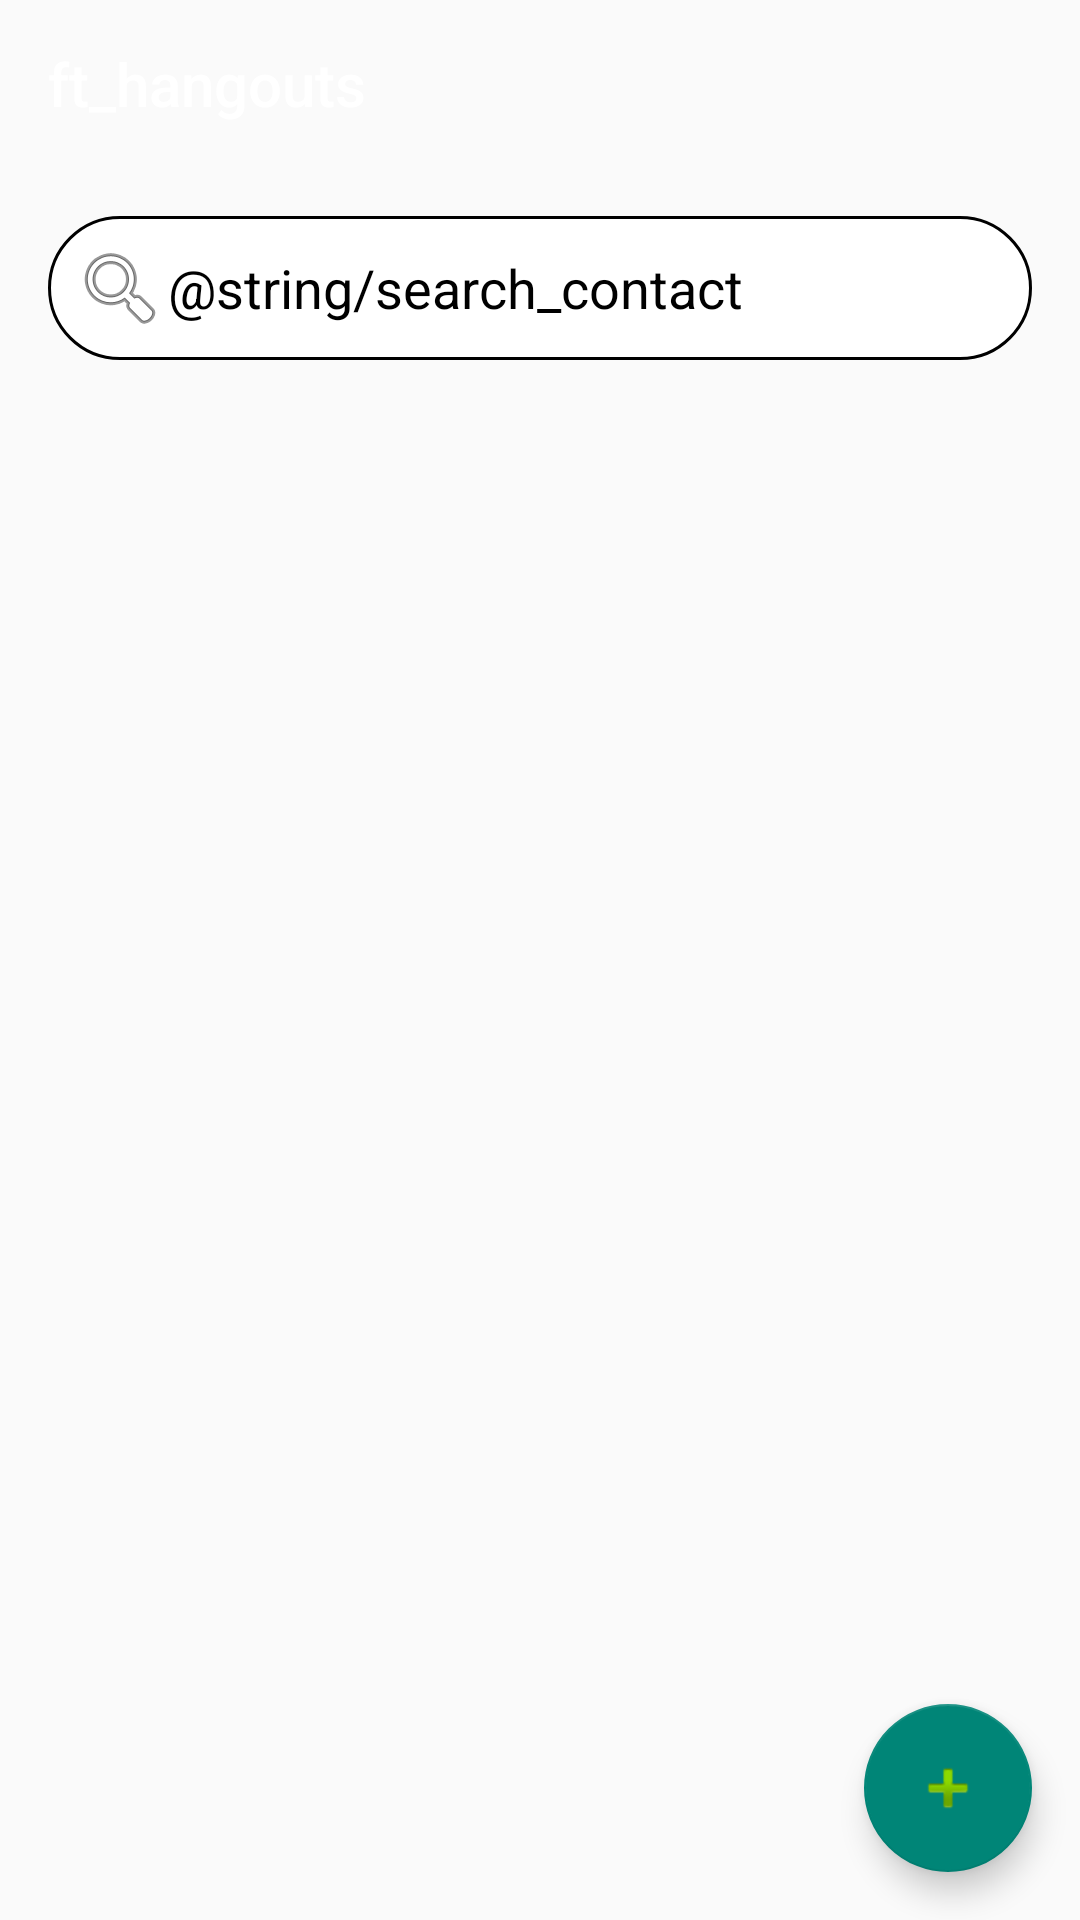

Icons on this 1080*1920 Android screen, each with its box as [x1,y1,x2,y2]:
Ajouter un nouveau contact: [864,1704,1032,1872]
